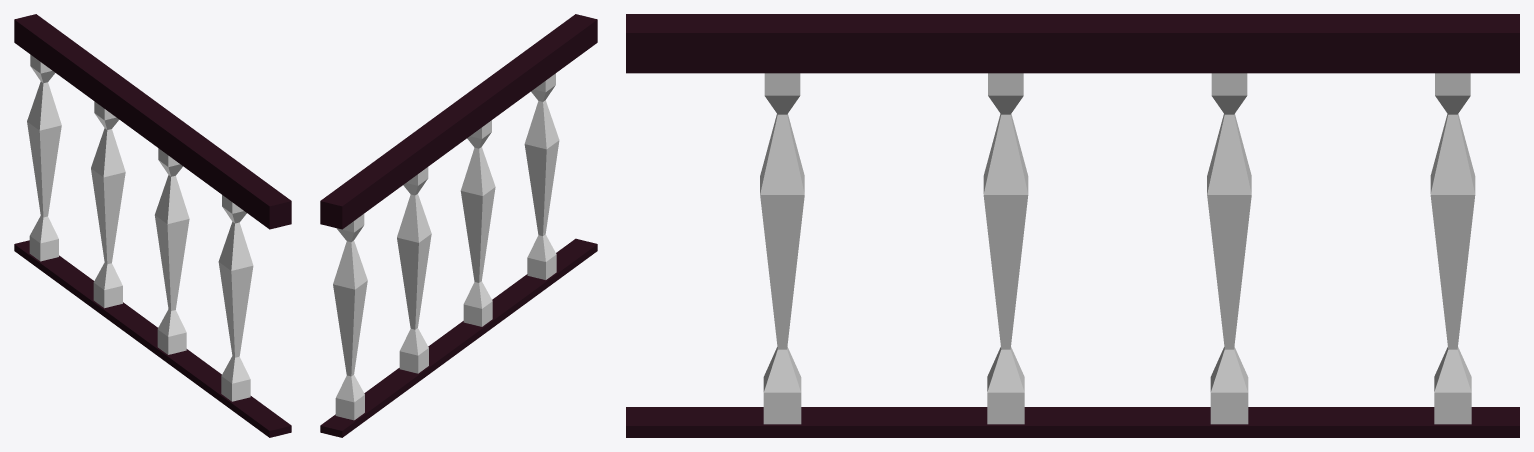
File: Bib_Fence.fbx
3 renders of one model, left to right at view 1: azimuth 30°, elevation 25°; view 2: azimuth 150°, elevation 25°; view 3: azimuth 270°, elevation 25°, orthographic. The views are drawn at different scales.
Parts seen in each view (by area): view 1: fence_Cube.001; view 2: fence_Cube.001; view 3: fence_Cube.001.
Boxes of the visible parts, x1,y1,x2,y2 form: fence_Cube.001: (14,14,291,437); fence_Cube.001: (320,14,597,437); fence_Cube.001: (626,14,1519,437).
Bounding box in the file's own units: 10 × 100 × 200.
